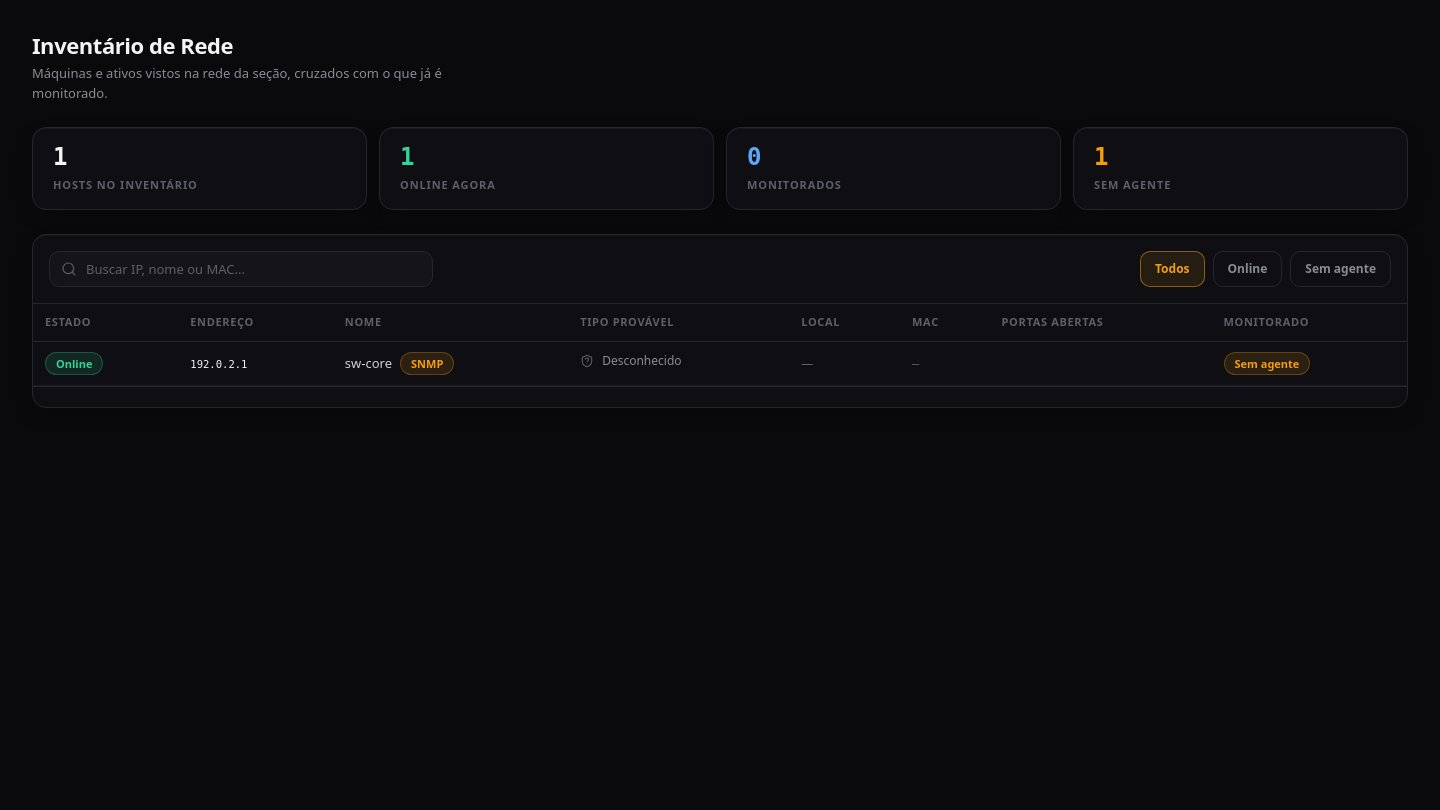
Test: NetworkView — aba Interfaces › host só com erro de SNMP ganha a aba e mostra a falha
What coordinates should you click on to do the following:
click the button named "Ver detalhe de 192.0.2.1"
I would click on:
 (219, 365)
Its box is [190,357,248,373].
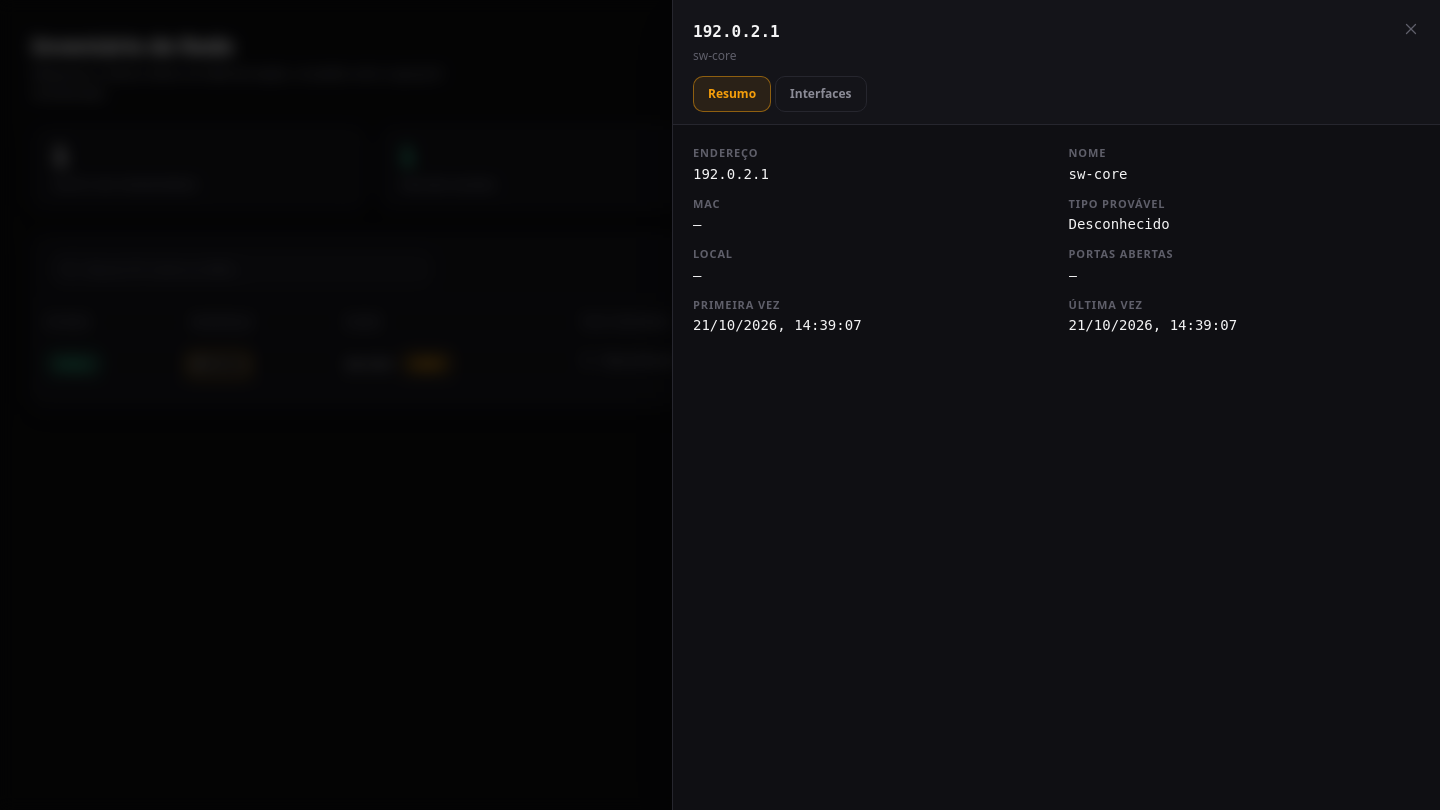
What coordinates should you click on to do the following:
click the tab "Interfaces"
I would click on:
 (821, 94)
Its box is [775,76,866,112].
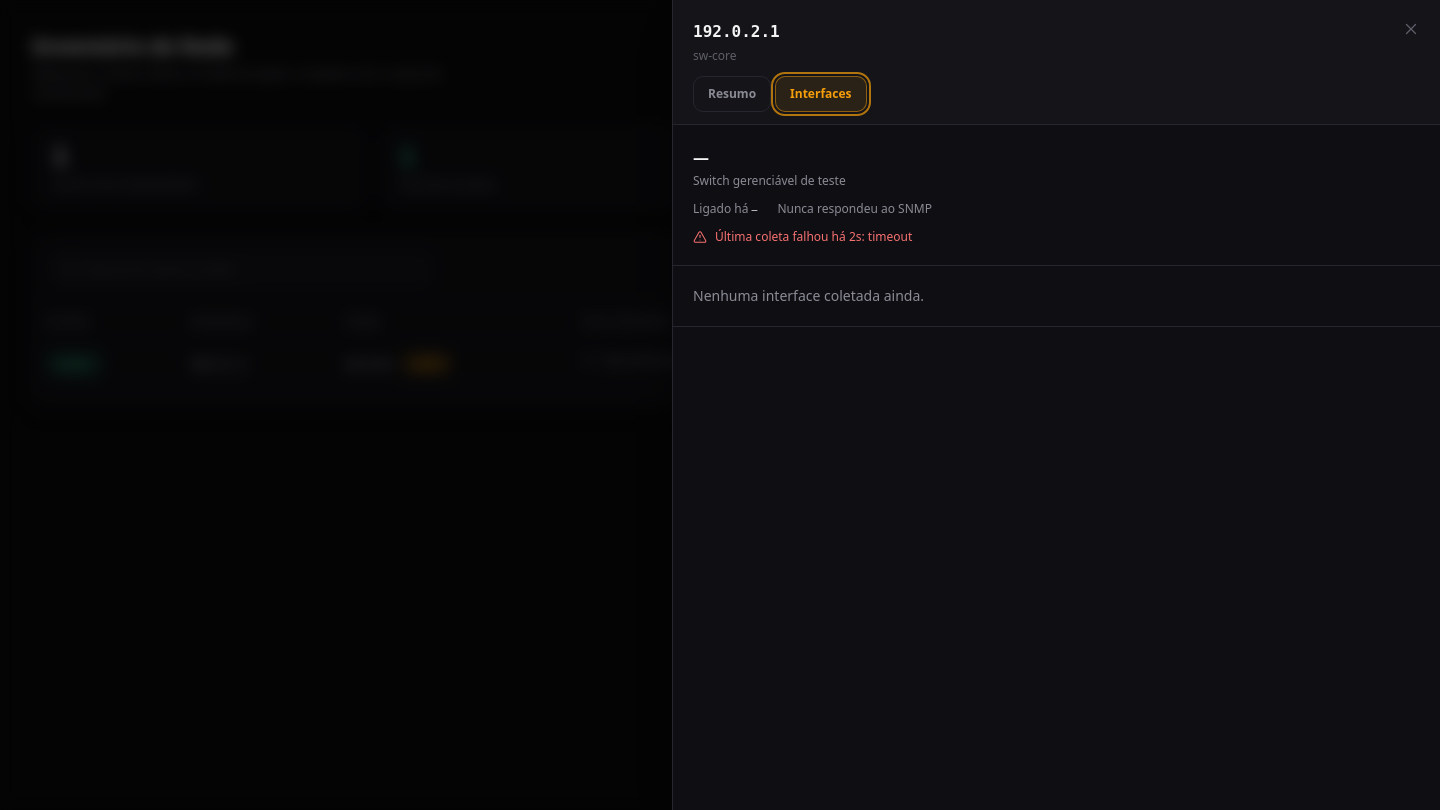
Now the heading with test id "snmp-sys-name" reads "—", box [693,146,709,168]
Now the text with test id "snmp-uptime" reads "—", box [752,204,757,215]
Now the message with test id "snmp-erro" shows "timeout", box [868,228,912,245]
